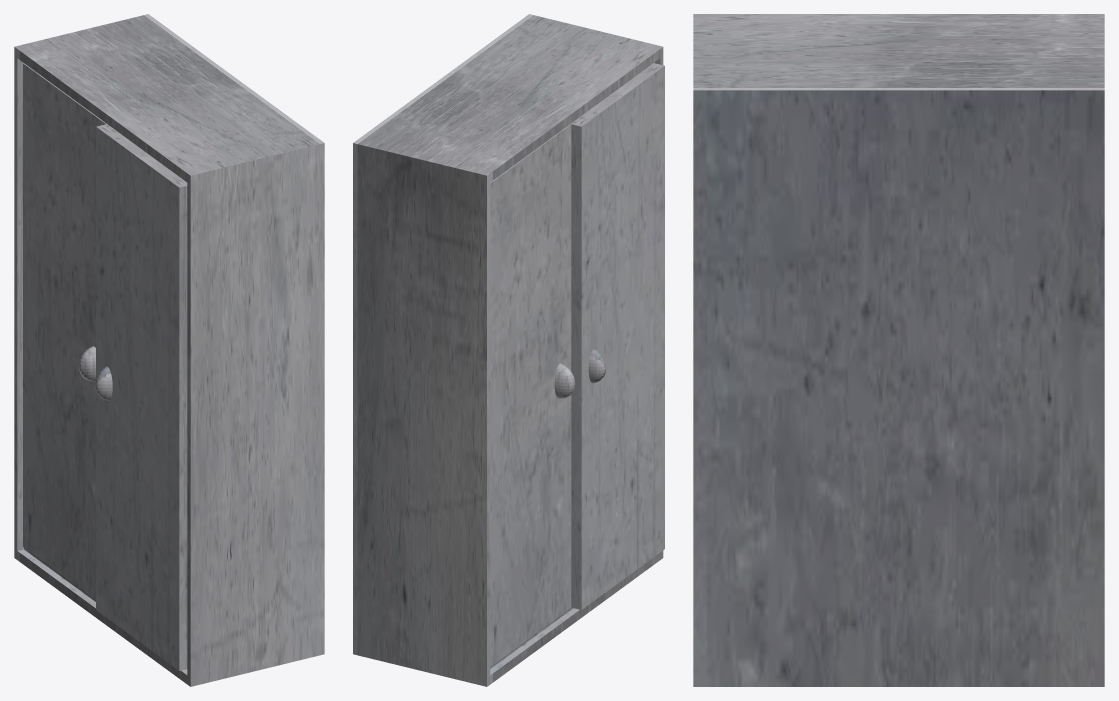
File: CajondeMetal.fbx
3 views of the same model, side by side, from view 1: azimuth 30°, elevation 25°; view 2: azimuth 150°, elevation 25°; view 3: azimuth 270°, elevation 25° (orthographic). The views are drawn at different scales.
Parts seen in each view (by area): view 1: Cube.001; view 2: Cube.001; view 3: Cube.001.
Boxes of the visible parts, x1,y1,x2,y2 form: Cube.001: (14,14,324,686); Cube.001: (353,14,664,686); Cube.001: (693,14,1104,686).
Bounding box in the file's own units: 74.94 × 240 × 150.
